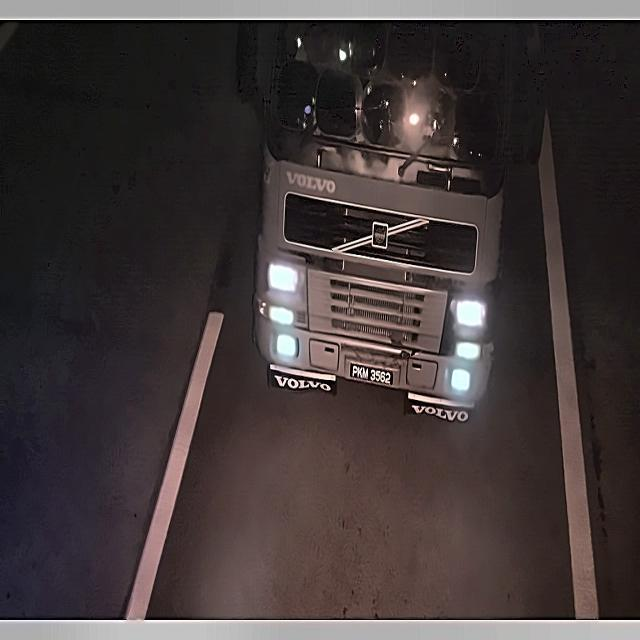car: (343, 360, 398, 394)
